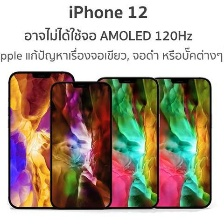phone: (4, 68, 76, 211), (92, 76, 164, 212), (149, 74, 214, 210), (47, 79, 112, 211)
